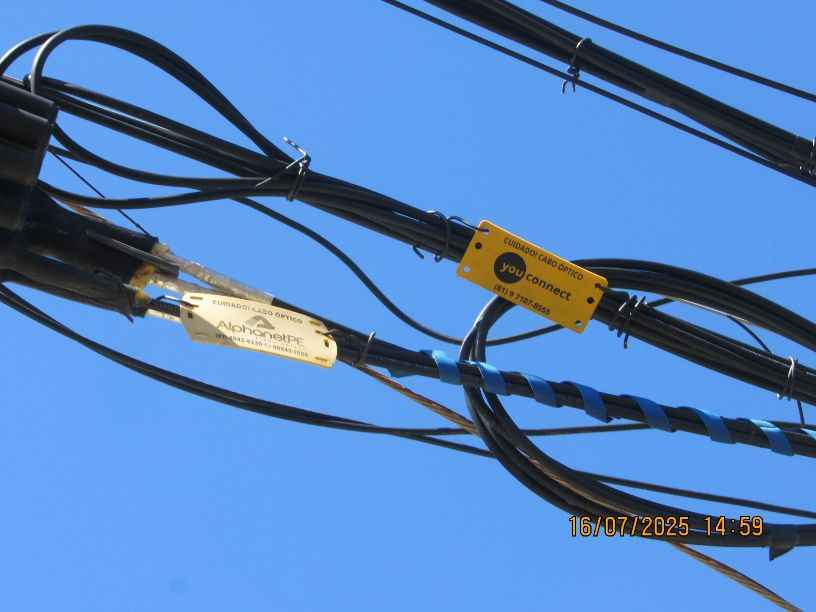coaxial: (85, 236, 548, 425)
fibra_optica: (265, 124, 767, 363)
